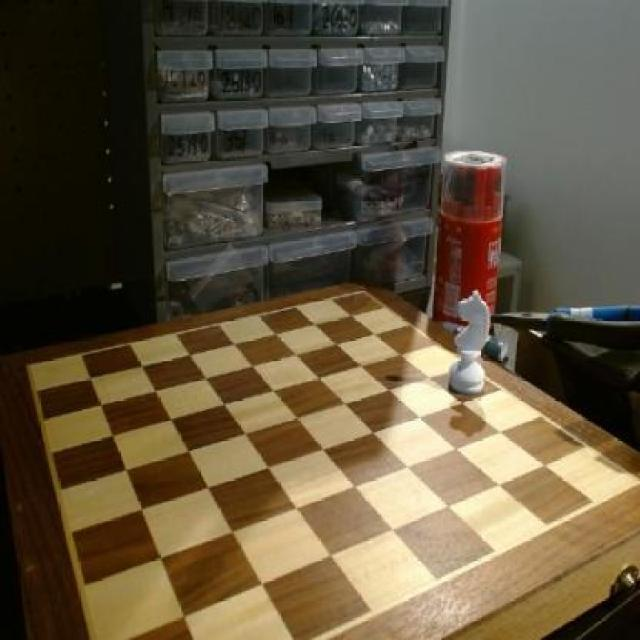white-king: (449, 283, 497, 398)
